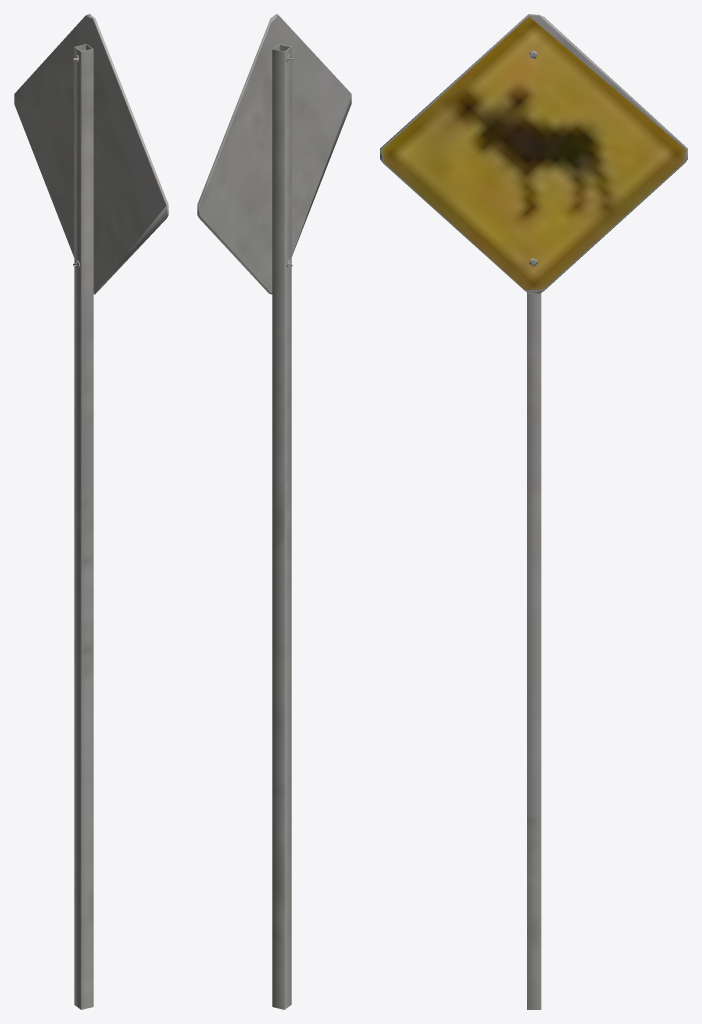
File: sign-deer.lod1.glb
3 renders of one model, left to right at view 1: azimuth 30°, elevation 25°; view 2: azimuth 150°, elevation 25°; view 3: azimuth 270°, elevation 25°, orthographic.
Parts seen in each view (by area): view 1: olen_LOW_POLY_sign_0; view 2: olen_LOW_POLY_sign_0; view 3: olen_LOW_POLY_sign_0.
Boxes of the visible parts, box(x1,y1,x2,y2) form: olen_LOW_POLY_sign_0: box(14, 14, 168, 1009); olen_LOW_POLY_sign_0: box(197, 14, 351, 1009); olen_LOW_POLY_sign_0: box(380, 14, 687, 1009).
Bounding box in the file's own units: 0.0558 × 2.6 × 0.7275.
Materials: 1 (1 with a texture image).
